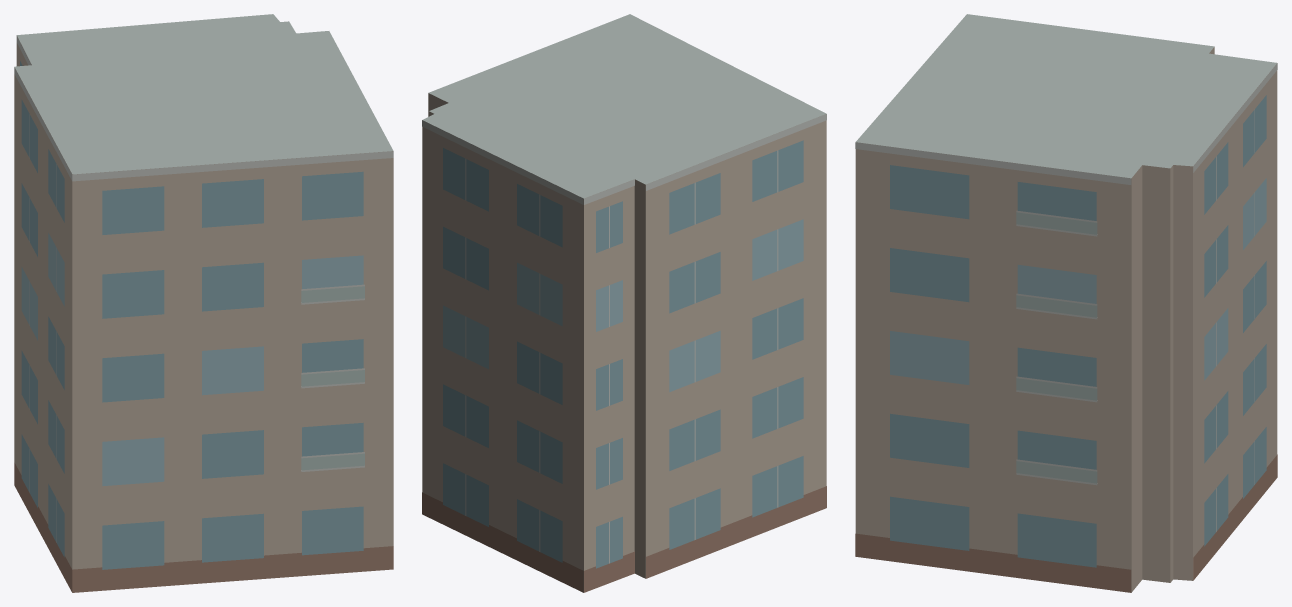
Rendered from survey-upis-32976114.glb.
3 views of the same model, side by side, from view 1: azimuth 30°, elevation 25°; view 2: azimuth 150°, elevation 25°; view 3: azimuth 270°, elevation 25° (orthographic). The views are drawn at different scales.
Parts seen in each view (by area): view 1: survey-upis-32976114.tmp; view 2: survey-upis-32976114.tmp; view 3: survey-upis-32976114.tmp.
Part boxes in pixels (x1=…): survey-upis-32976114.tmp: x1=14, y1=14, x2=393, y2=592; survey-upis-32976114.tmp: x1=422, y1=14, x2=826, y2=592; survey-upis-32976114.tmp: x1=855, y1=14, x2=1277, y2=592.
Size of the model in its own units: 12.46 by 14.65 by 13.52.
